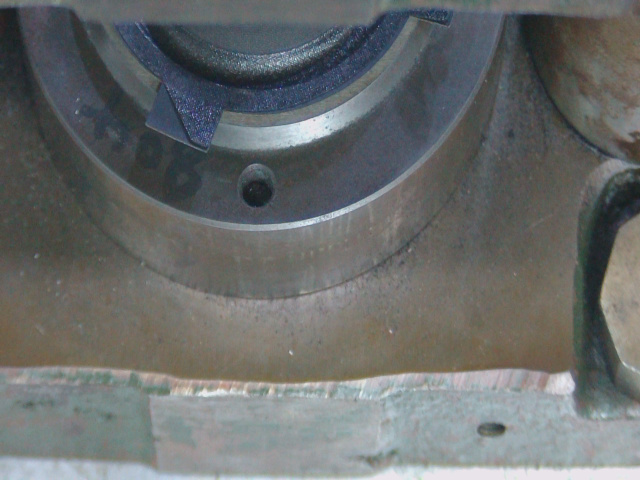HX3: (147, 82, 231, 160)
